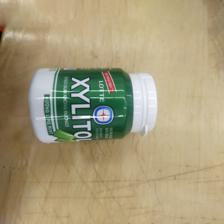Xylitol_green: (25, 64, 160, 145)
